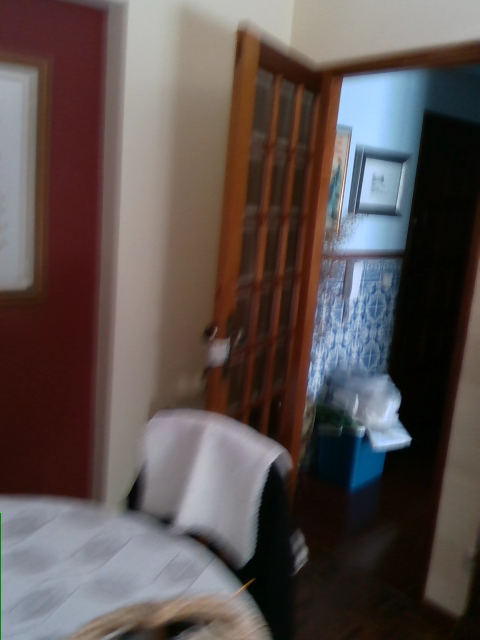open: (206, 22, 478, 472)
